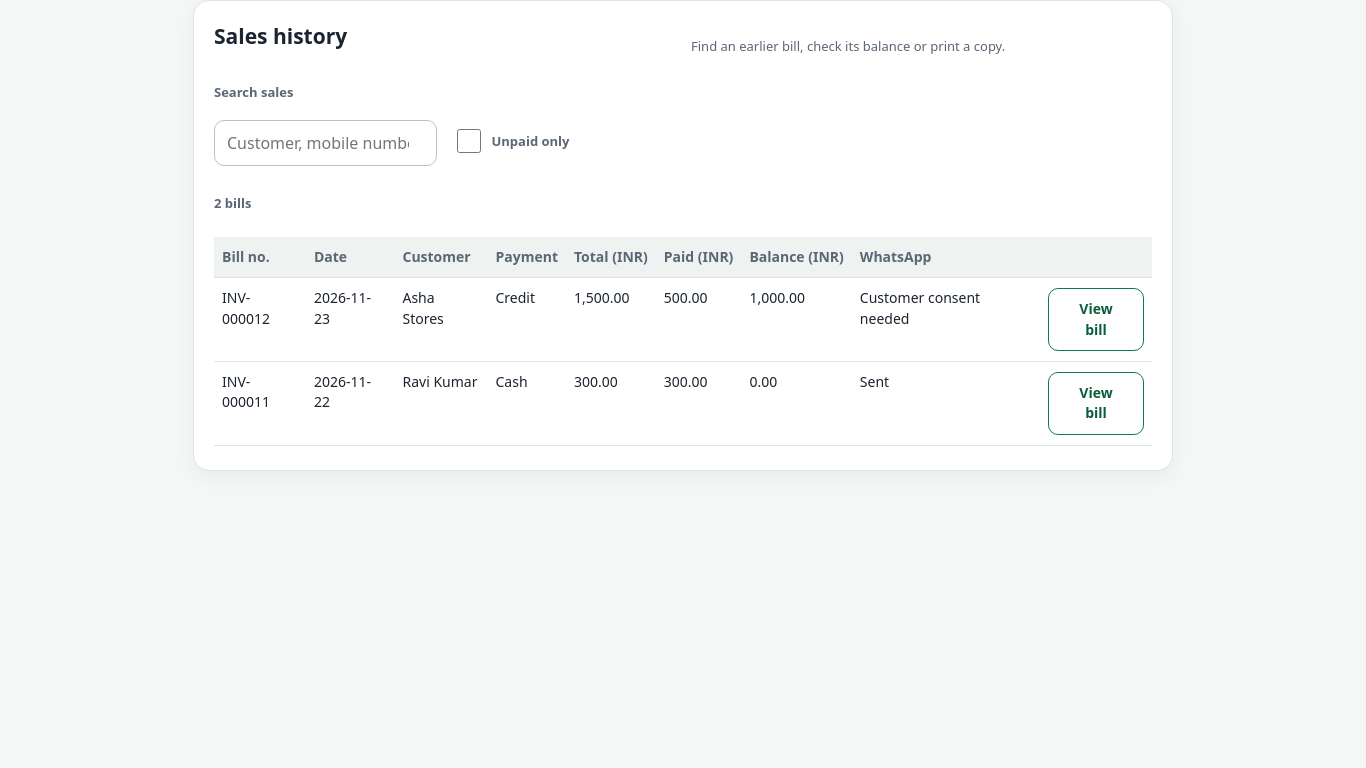
SalesHistory › opens and closes the historical invoice detail dialog
This screenshot has width=1366, height=768.
Click the button "View bill" in the row of "INV-000012".
click(1096, 320)  # box [1048,288,1144,351]
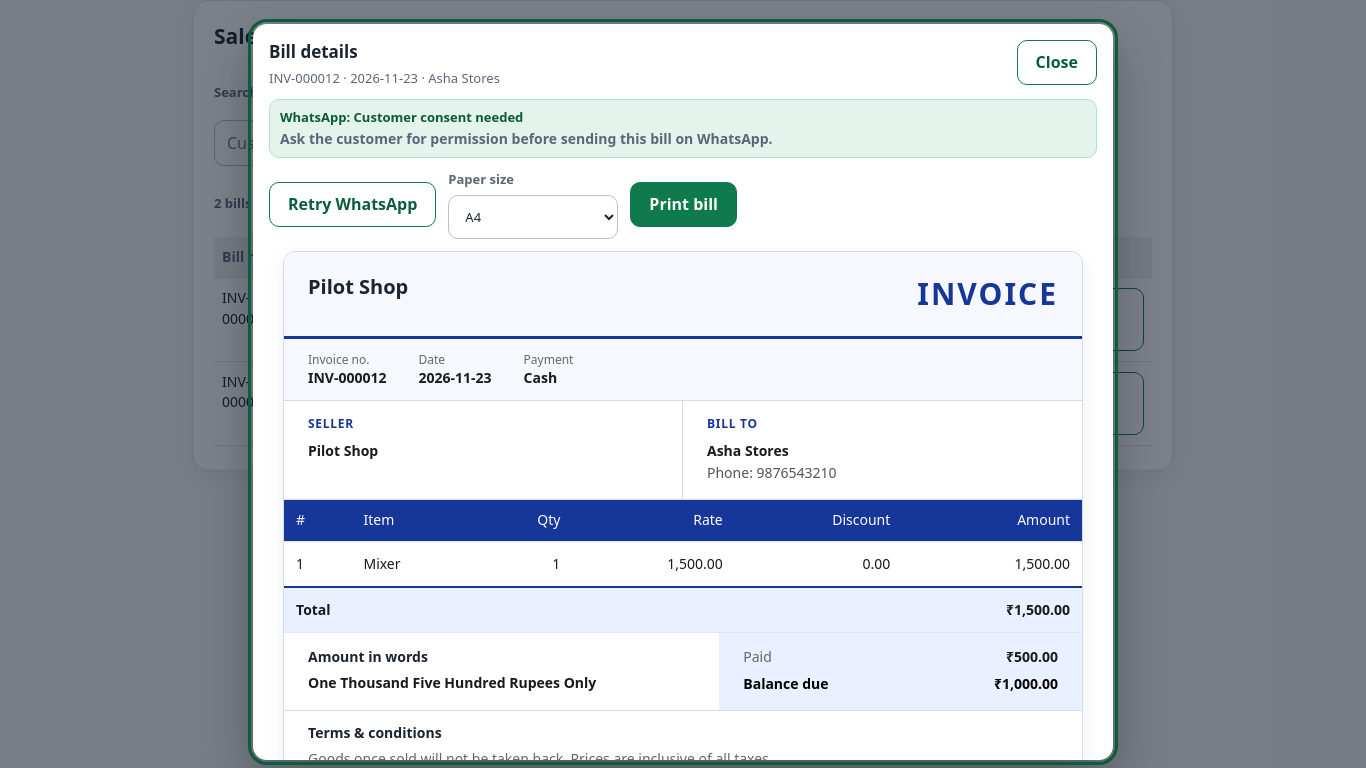
Now the dialog "Bill details" shows "INV-000012", box [269,69,340,87]
Now the dialog "Bill details" shows "Mixer", box [363,554,400,572]
Click the button "Close".
click(1057, 63)  # box [1017,40,1097,85]
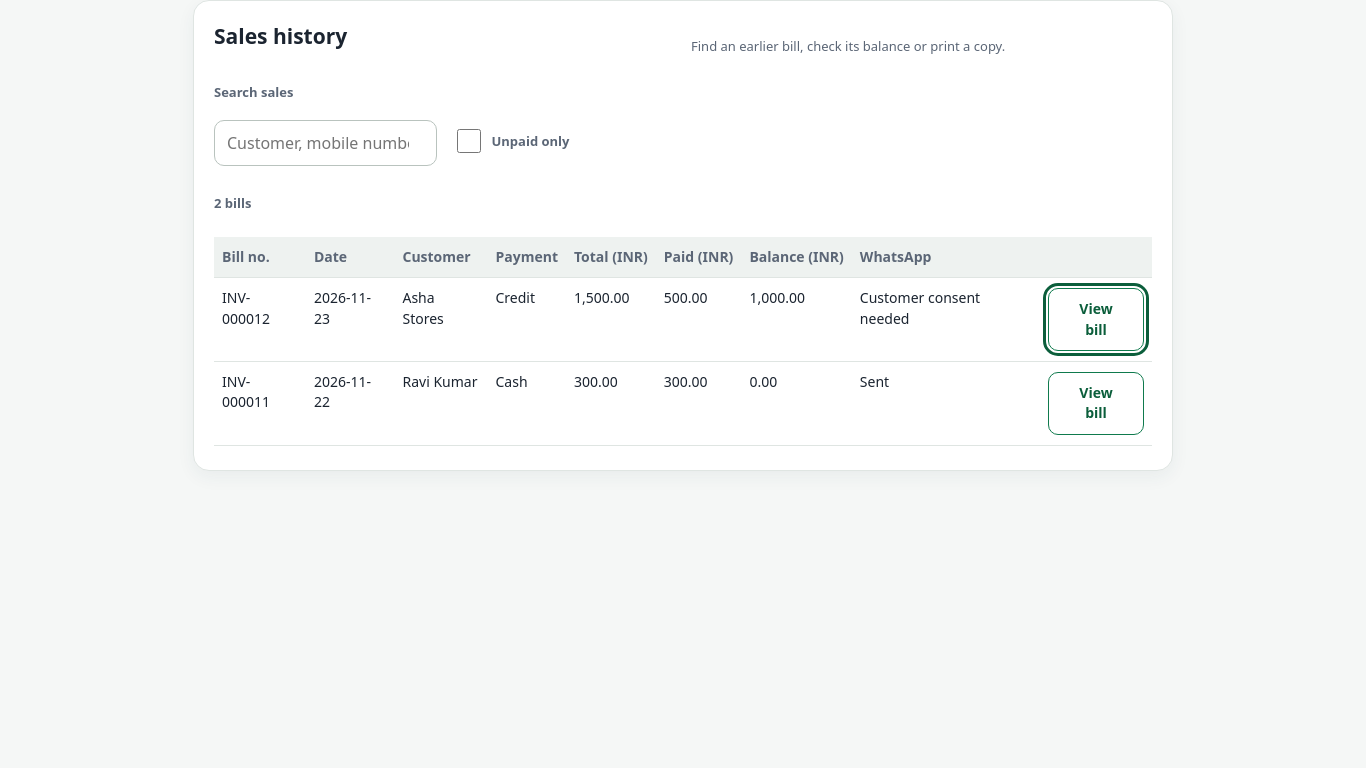
Now the dialog is gone
